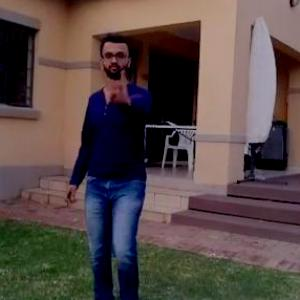takeoff-hand: (101, 65, 136, 110)
